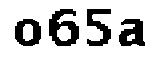5: (85, 6, 113, 48)
6: (46, 7, 80, 49)
a: (117, 17, 148, 48)
o: (14, 17, 43, 47)
